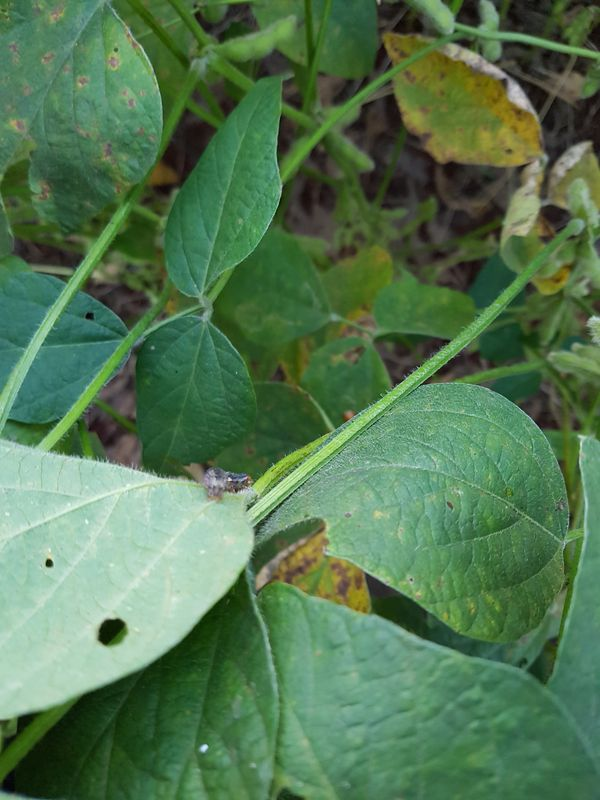Spodoptera_albula: (188, 454, 270, 520)
